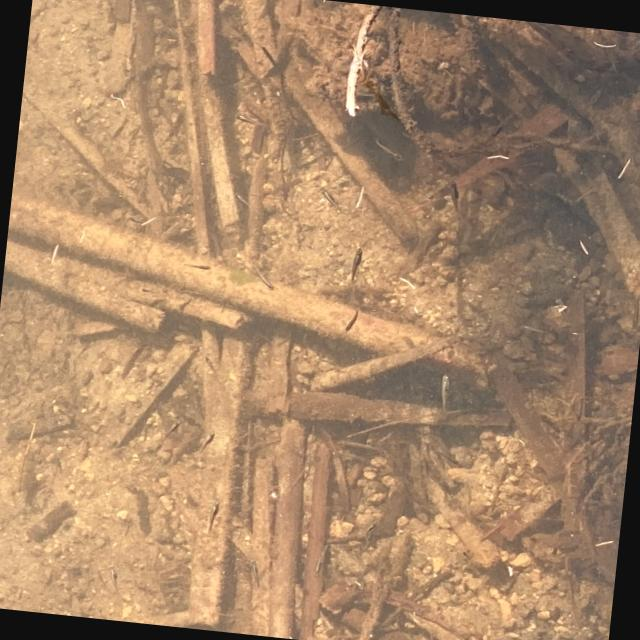Sivrisinek Baligi: (434, 368, 452, 412), (444, 178, 468, 210), (193, 423, 214, 459), (310, 541, 332, 575), (374, 136, 404, 160), (253, 265, 280, 290), (243, 556, 264, 586), (346, 246, 364, 281), (230, 112, 272, 126), (492, 111, 516, 135), (319, 191, 344, 211), (205, 499, 222, 528), (163, 416, 183, 438), (342, 308, 358, 334), (200, 355, 220, 375), (184, 258, 212, 272)
